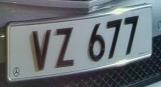6: (84, 20, 108, 63)
7: (122, 14, 143, 58), (104, 17, 124, 63)
V: (27, 25, 54, 73)
Z: (53, 25, 77, 71)
